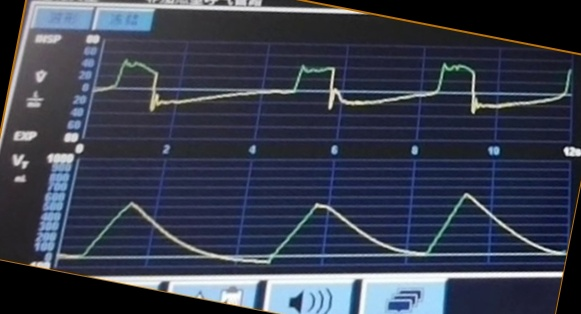Premature_cycling Flow: (102, 56, 571, 139)
Premature_cycling Volume: (67, 187, 561, 267)
